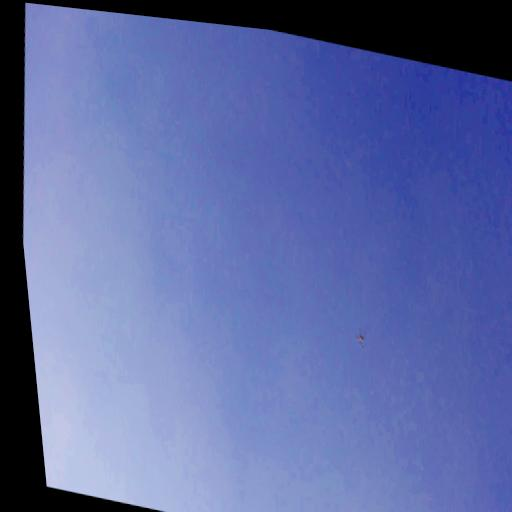drones: (352, 326, 370, 350)
